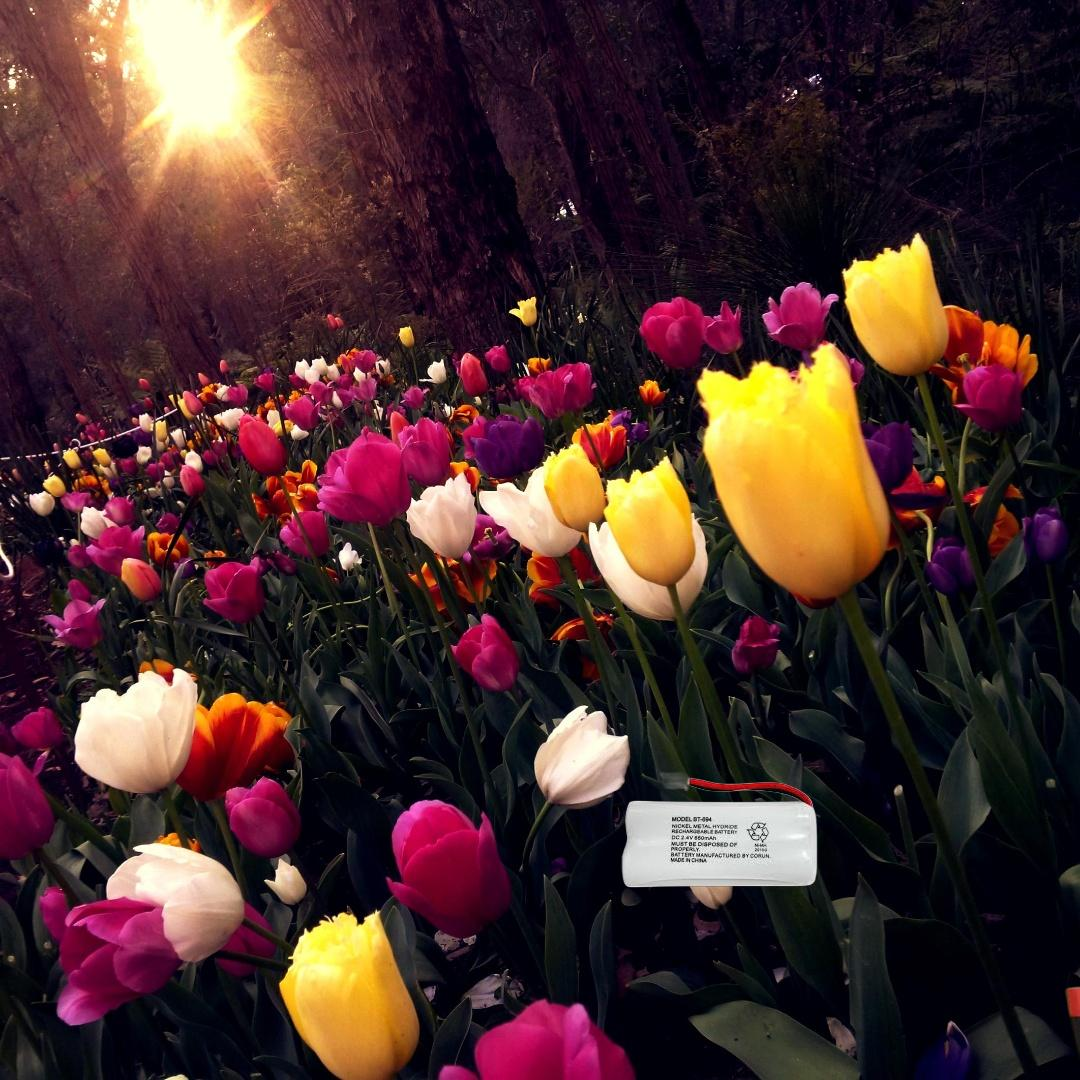battery: (618, 768, 820, 890)
shoes: (987, 911, 1080, 1080)
